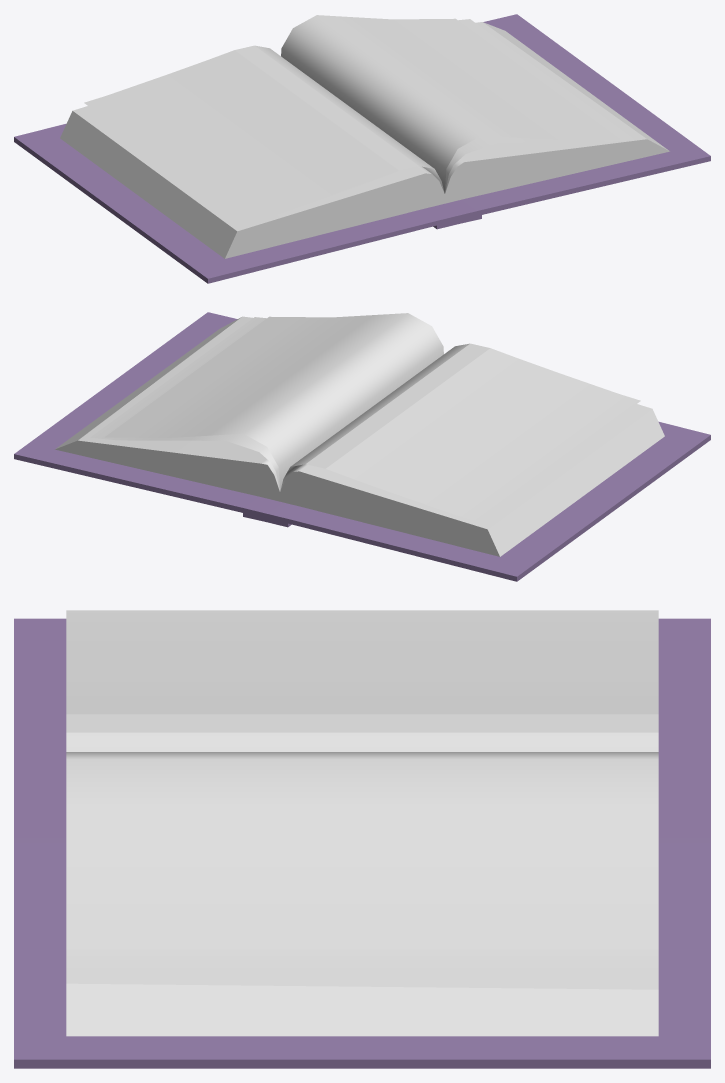
The model's file is Book_Open.fbx.
3 renders of one model, top to bottom at view 1: azimuth 30°, elevation 25°; view 2: azimuth 150°, elevation 25°; view 3: azimuth 270°, elevation 25°, orthographic. The views are drawn at different scales.
Visible parts, largest first — view 1: Book_Open; view 2: Book_Open; view 3: Book_Open.
Boxes of the visible parts, x1=… form: Book_Open: x1=14, y1=14, x2=710, y2=283; Book_Open: x1=14, y1=312, x2=710, y2=581; Book_Open: x1=14, y1=610, x2=710, y2=1068.
Bounding box in the file's own units: 162 × 21.3 × 109.
